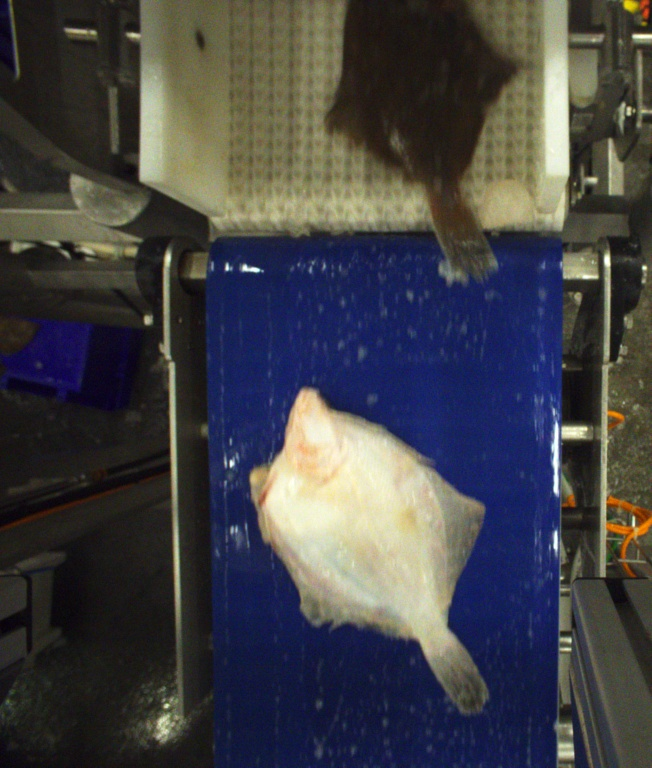PLE: (255, 384, 493, 713)
